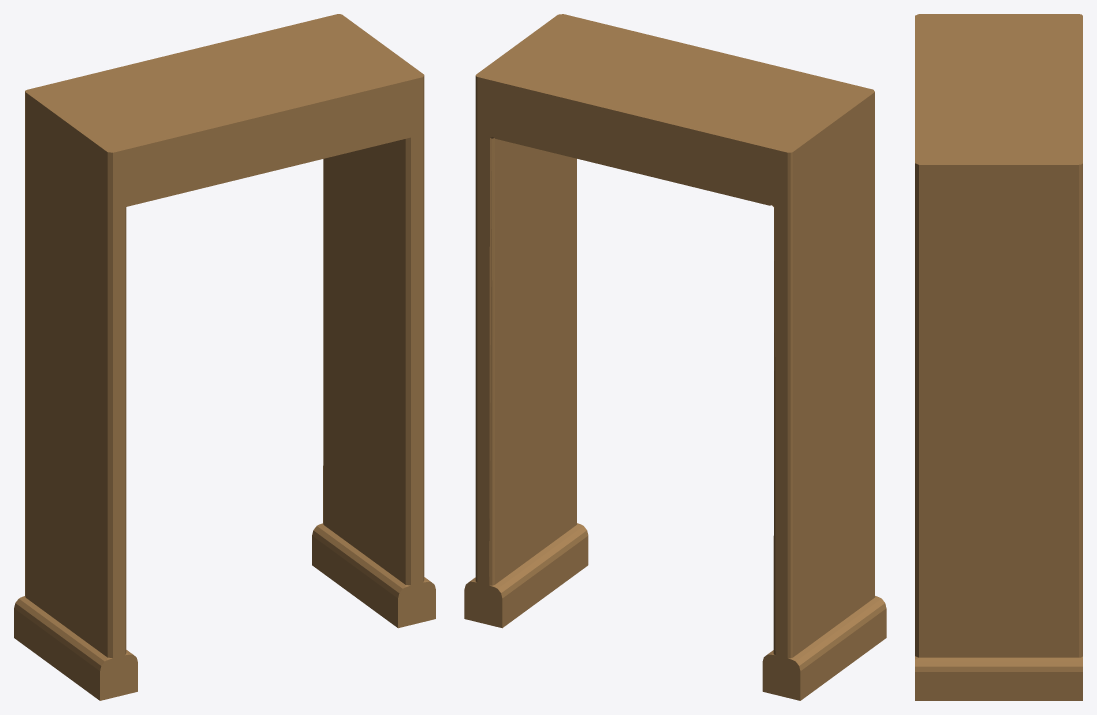
Rendered from SM_Security_MetalDecBase_01.fbx.
3 views of the same model, side by side, from view 1: azimuth 30°, elevation 25°; view 2: azimuth 150°, elevation 25°; view 3: azimuth 270°, elevation 25° (orthographic). The views are drawn at different scales.
Visible parts, largest first — view 1: pCube4; view 2: pCube4; view 3: pCube4.
Part boxes in pixels (x1,y1,x2,y2): pCube4: [14, 14, 435, 700]; pCube4: [464, 14, 886, 700]; pCube4: [915, 14, 1082, 700].
Bounding box in the file's own units: 2.25 × 3.5 × 1.
